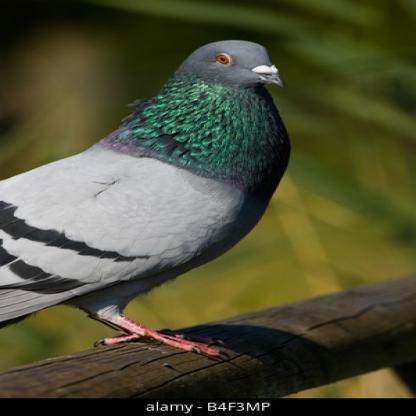Flying Rat: (1, 33, 289, 362)
